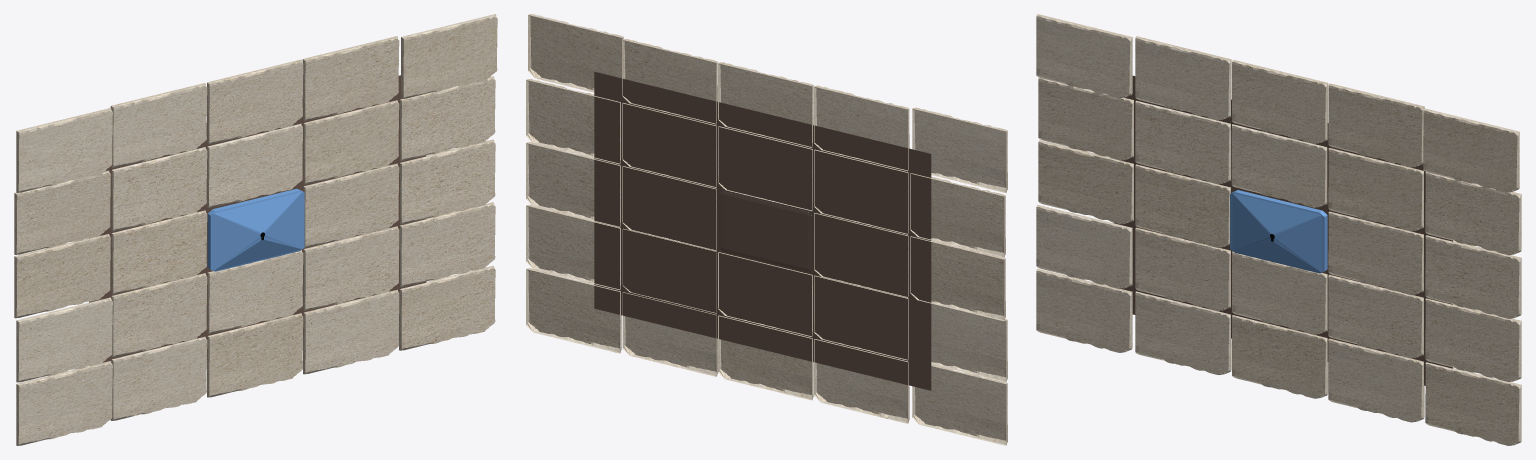
Rendered from optimus 1.fbx.
3 renders of one model, left to right at view 1: azimuth 30°, elevation 25°; view 2: azimuth 150°, elevation 25°; view 3: azimuth 330°, elevation 25°, orthographic.
Parts seen in each view (by area): view 1: Plane; view 2: Plane; view 3: Plane.
Part boxes in pixels (box(x1,y1,x2,y2)): Plane: box(14, 14, 497, 445); Plane: box(526, 14, 1007, 445); Plane: box(1036, 14, 1521, 445).
Bounding box in the file's own units: 1801 × 1131 × 56.84.
